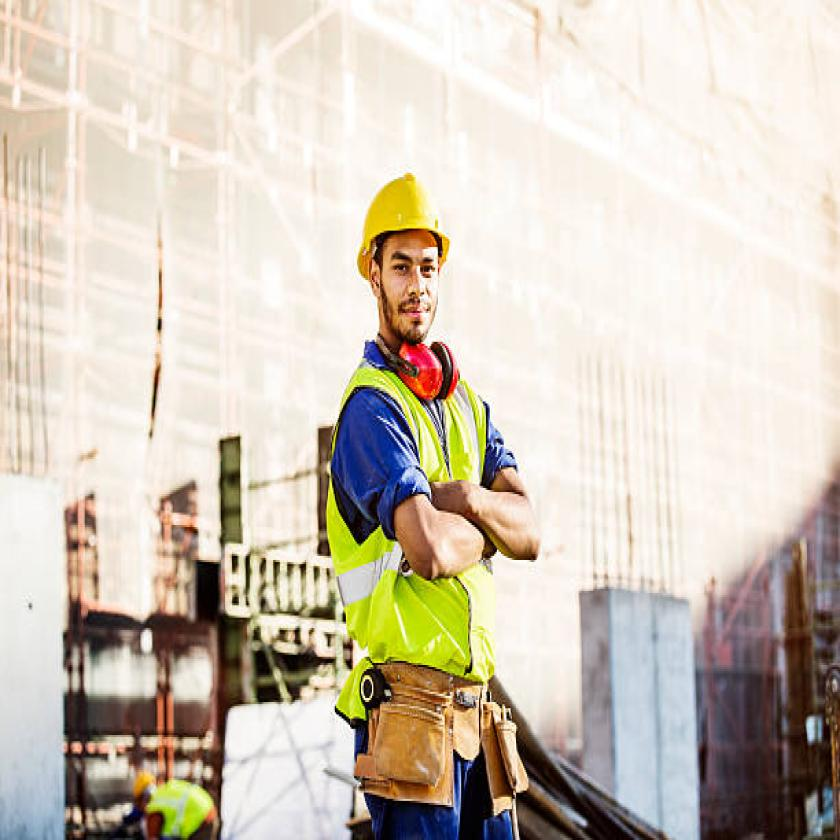Con_casco: (354, 173, 454, 359)
